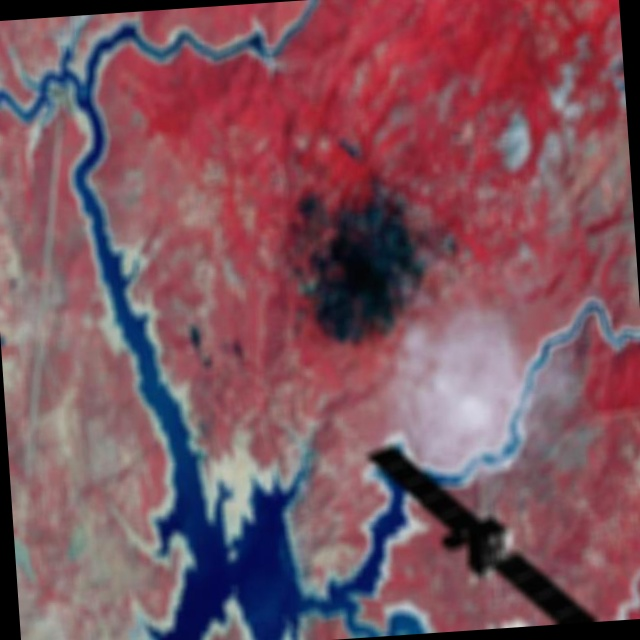medium_debris: (365, 420, 620, 637)
